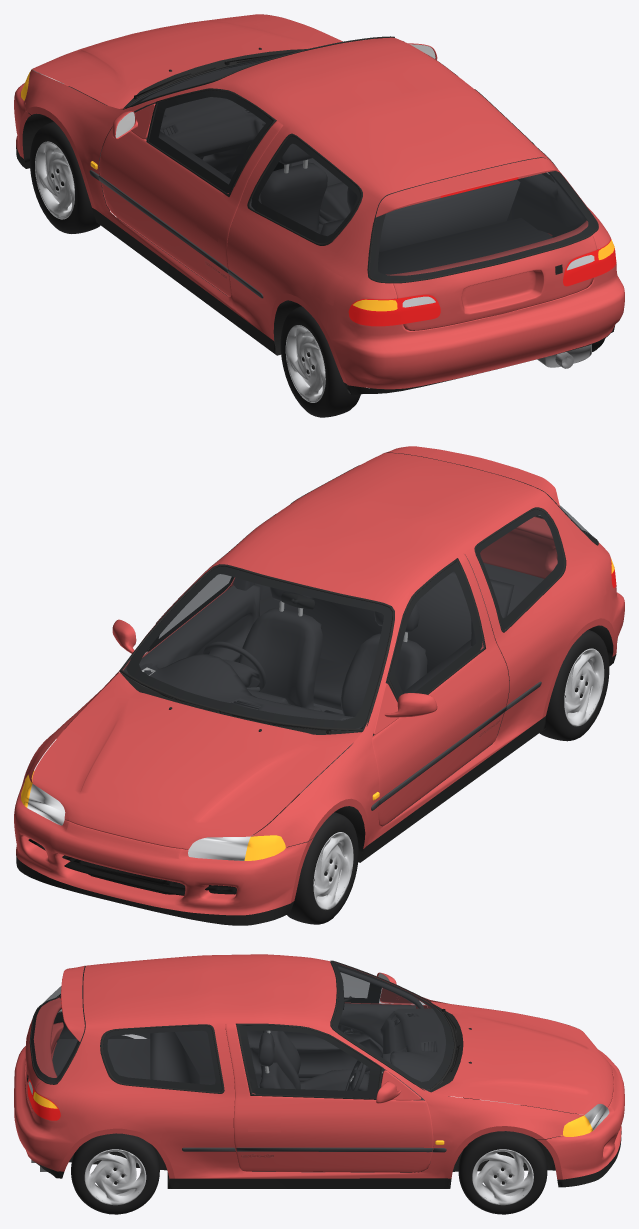
File: civic_eg.glb
3 renders of one model, top to bottom at view 1: azimuth 30°, elevation 25°; view 2: azimuth 150°, elevation 25°; view 3: azimuth 270°, elevation 25°, orthographic. The views are drawn at different scales.
Parts seen in each view (by area): view 1: Body, Wheel_RL, Wheel_FL; view 2: Body, Wheel_FL, Wheel_RL; view 3: Body, Wheel_FR, Wheel_RR.
Boxes of the visible parts, x1=… form: Body: x1=14, y1=14, x2=624, y2=395; Wheel_RL: x1=280, y1=306, x2=360, y2=417; Wheel_FL: x1=30, y1=121, x2=109, y2=233; Body: x1=14, y1=446, x2=624, y2=925; Wheel_FL: x1=286, y1=812, x2=358, y2=924; Wheel_RL: x1=539, y1=629, x2=609, y2=741; Body: x1=14, y1=954, x2=624, y2=1188; Wheel_FR: x1=458, y1=1131, x2=547, y2=1214; Wheel_RR: x1=71, y1=1133, x2=159, y2=1214.
Bounding box in the file's own units: 1.91 × 1.34 × 4.05.
